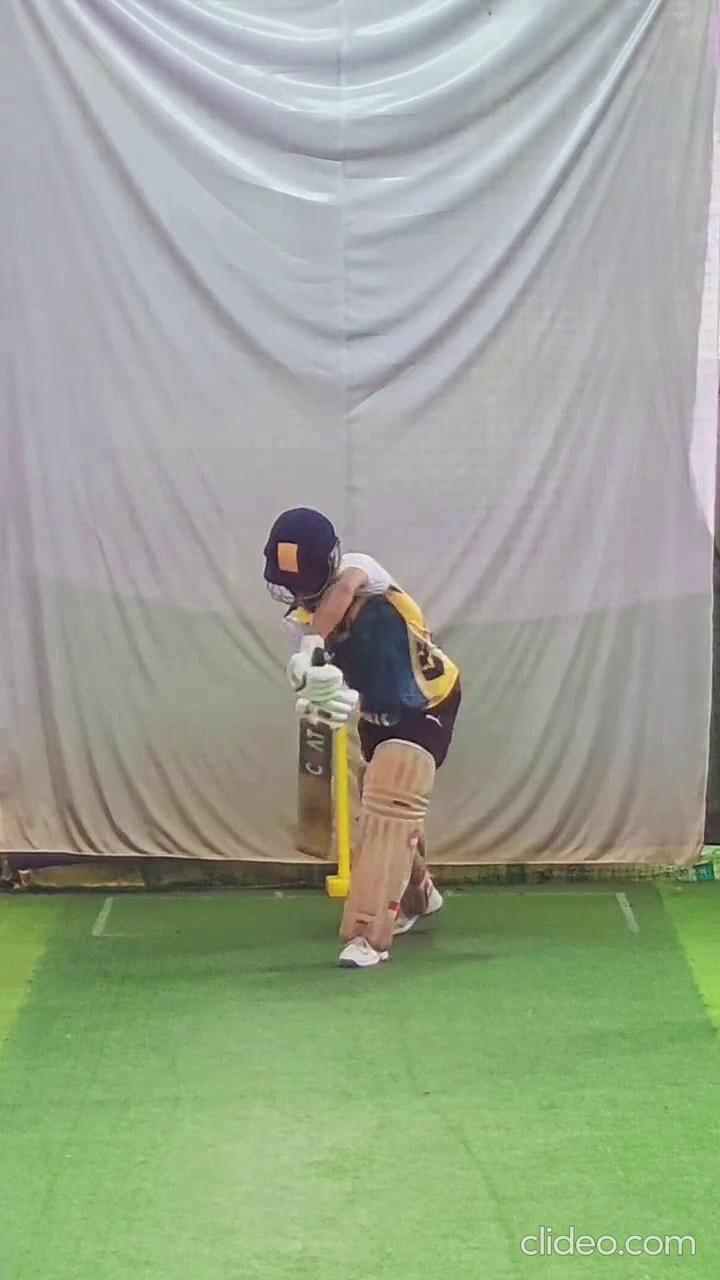bat: (293, 717, 337, 866)
